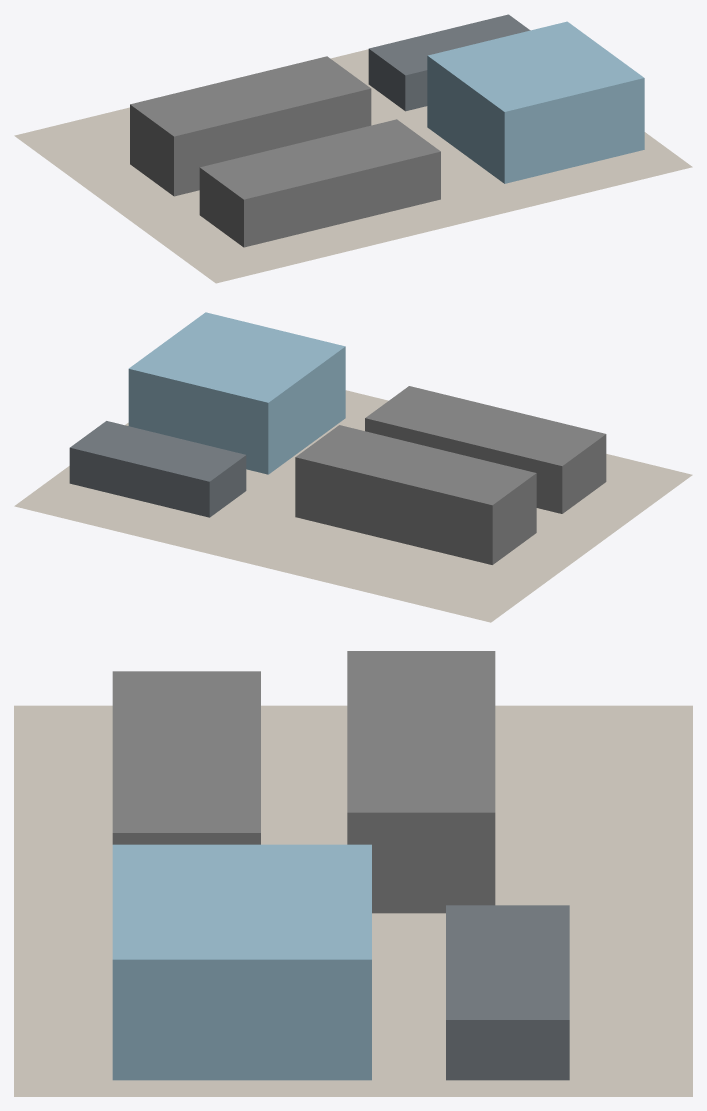
3 renders of one model, top to bottom at view 1: azimuth 30°, elevation 25°; view 2: azimuth 150°, elevation 25°; view 3: azimuth 270°, elevation 25°, orthographic. The views are drawn at different scales.
Parts seen in each view (by area): view 1: GROUND, C L6, B L5, A L4, D L3, A L1, A L2, A L3, B L3, B L4, C L2, C L3 (+7 smaller); view 2: GROUND, C L6, A L4, B L5, D L3, B L4, B L3, B L2, B L1, C L3, C L4, C L5 (+7 smaller); view 3: GROUND, C L6, B L5, A L4, D L3, C L1, C L2, C L3, C L5, C L4, B L4, D L1 (+4 smaller).
Part boxes in pixels (<box>): GROUND: <box>14,49,692,283</box>; C L6: <box>427,21,644,123</box>; B L5: <box>130,56,371,148</box>; A L4: <box>199,119,440,211</box>; D L3: <box>368,14,530,87</box>; A L1: <box>199,187,440,247</box>; A L2: <box>199,175,440,235</box>; A L3: <box>199,163,440,223</box>; B L3: <box>130,112,371,172</box>; B L4: <box>130,100,371,160</box>; C L2: <box>427,103,644,171</box>; C L3: <box>427,91,644,159</box>; GROUND: <box>14,390,692,622</box>; C L6: <box>128,312,345,414</box>; A L4: <box>365,386,606,477</box>; B L5: <box>295,425,536,517</box>; D L3: <box>69,421,246,493</box>; B L4: <box>295,469,536,529</box>; B L3: <box>295,481,536,541</box>; B L2: <box>295,493,536,553</box>; B L1: <box>295,505,536,564</box>; C L3: <box>128,382,345,450</box>; C L4: <box>128,370,345,438</box>; C L5: <box>128,358,345,426</box>; GROUND: <box>14,705,692,1096</box>; C L6: <box>112,844,371,979</box>; B L5: <box>347,651,495,832</box>; A L4: <box>112,671,260,844</box>; D L3: <box>446,905,569,1040</box>; C L1: <box>112,1060,371,1080</box>; C L2: <box>112,1040,371,1060</box>; C L3: <box>112,1020,371,1040</box>; C L5: <box>112,979,371,999</box>; C L4: <box>112,1000,371,1019</box>; B L4: <box>347,833,495,852</box>; D L1: <box>446,1060,569,1080</box>.
Bounding box in the file's own units: 150 × 21.75 × 110.
